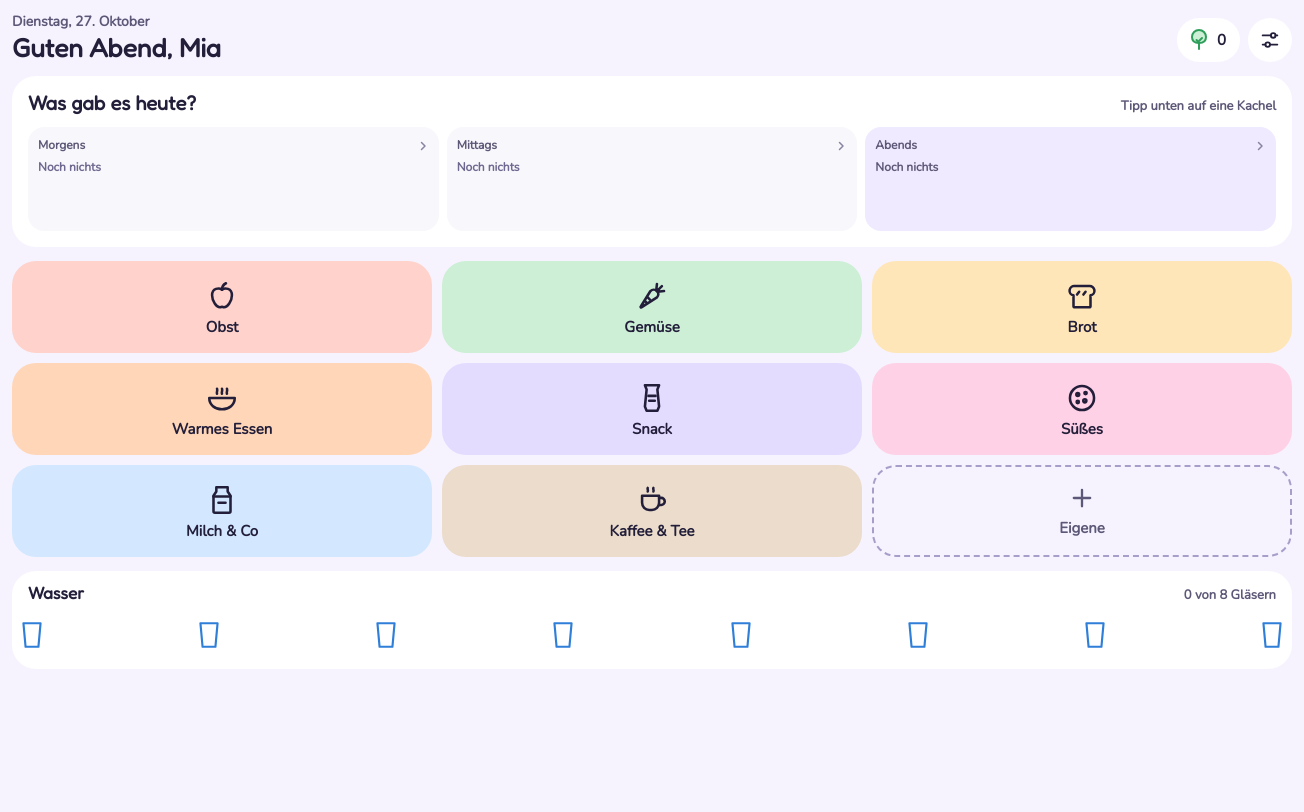
Test: TodayView › shows per-tile counts as badges
Click the button "Brot" at (1082, 307), box left=872, top=261, right=1292, bottom=353
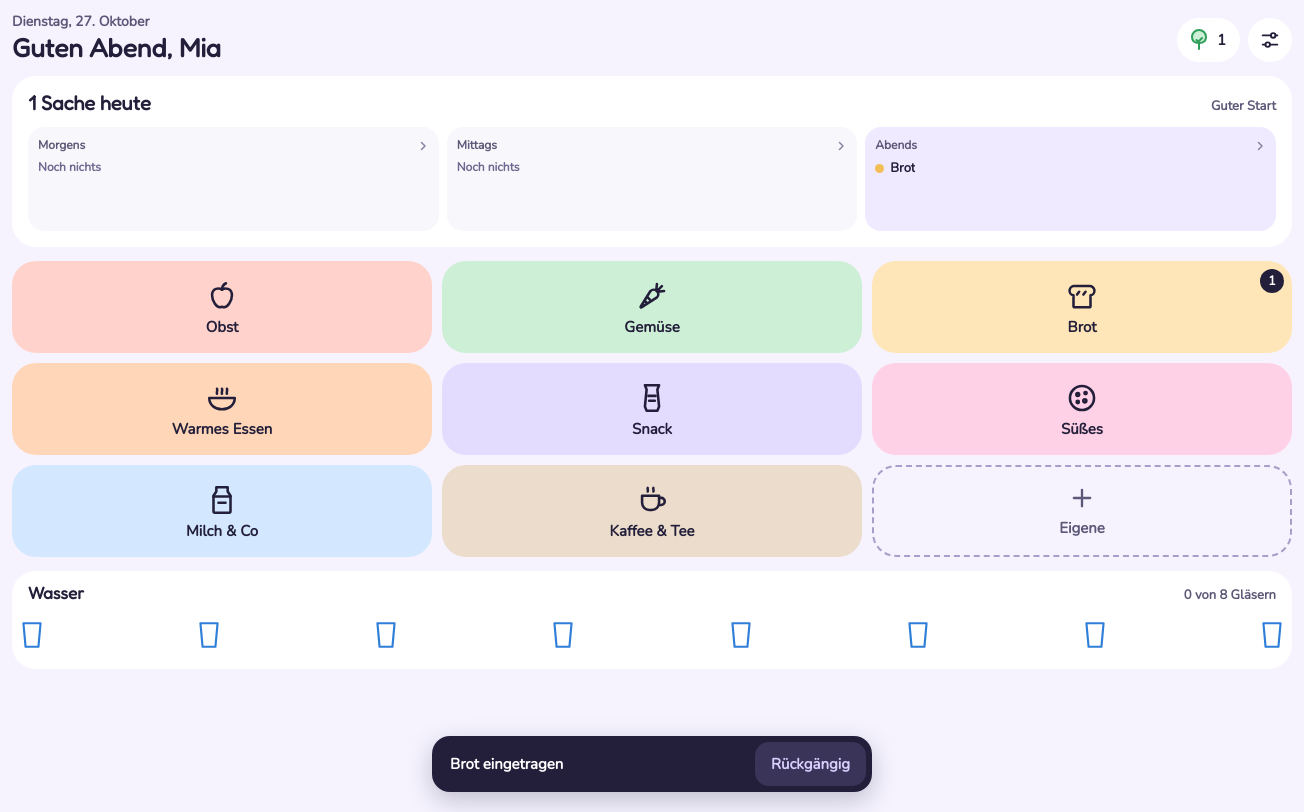
Click the button "Brot 1" at (1082, 307), box left=872, top=261, right=1292, bottom=353
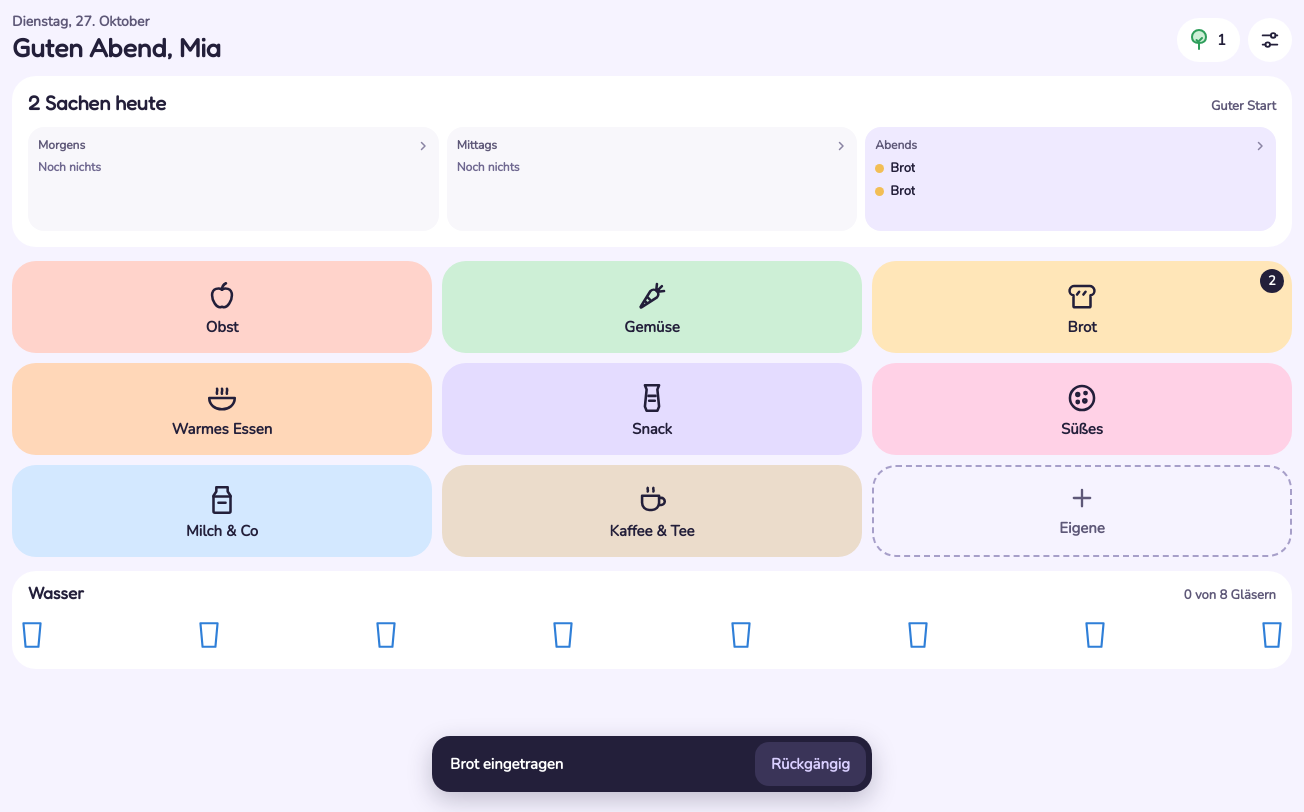
Click the button "Kaffee & Tee" at (652, 511), box left=442, top=465, right=862, bottom=557
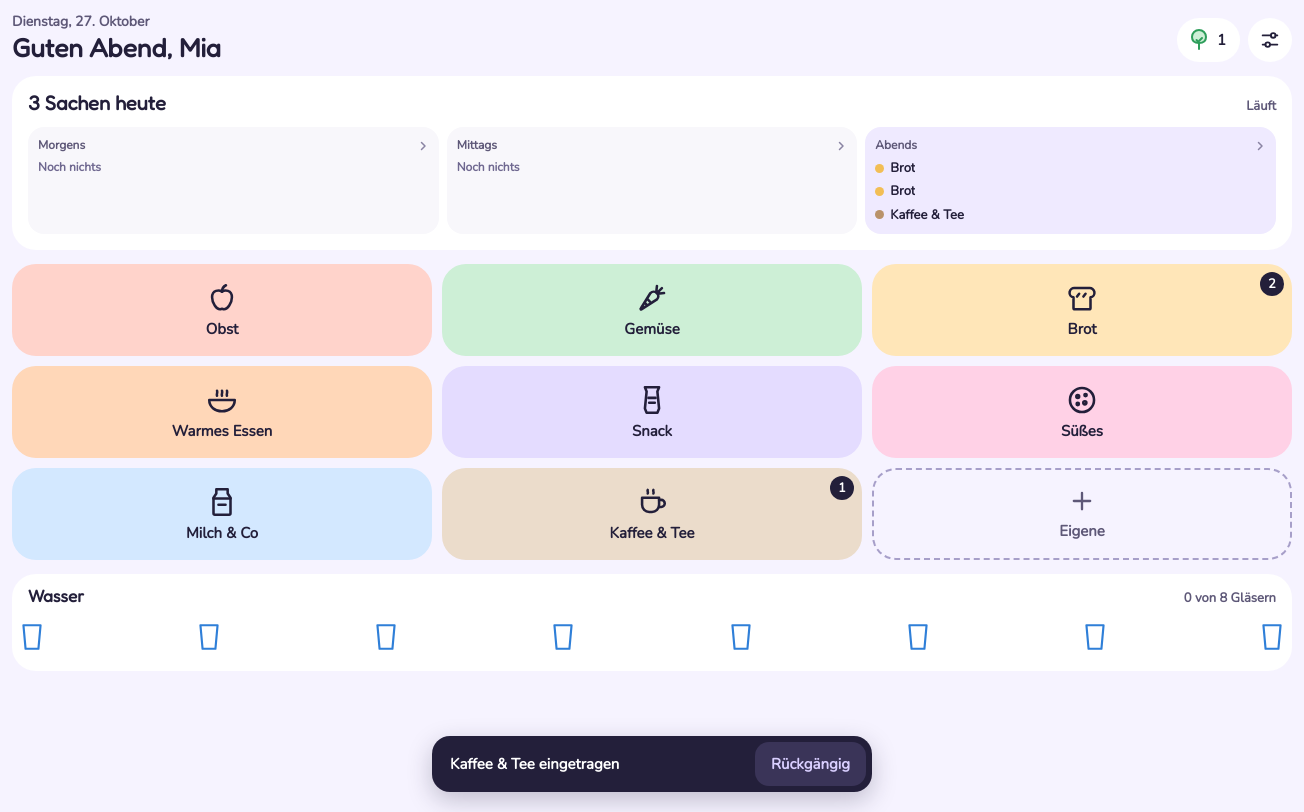
Expected: the text with test id "tile-badge" reads "2", left=1268, top=275, right=1276, bottom=293
Expected: the 2nd text with test id "tile-badge" reads "1", left=838, top=479, right=846, bottom=497
